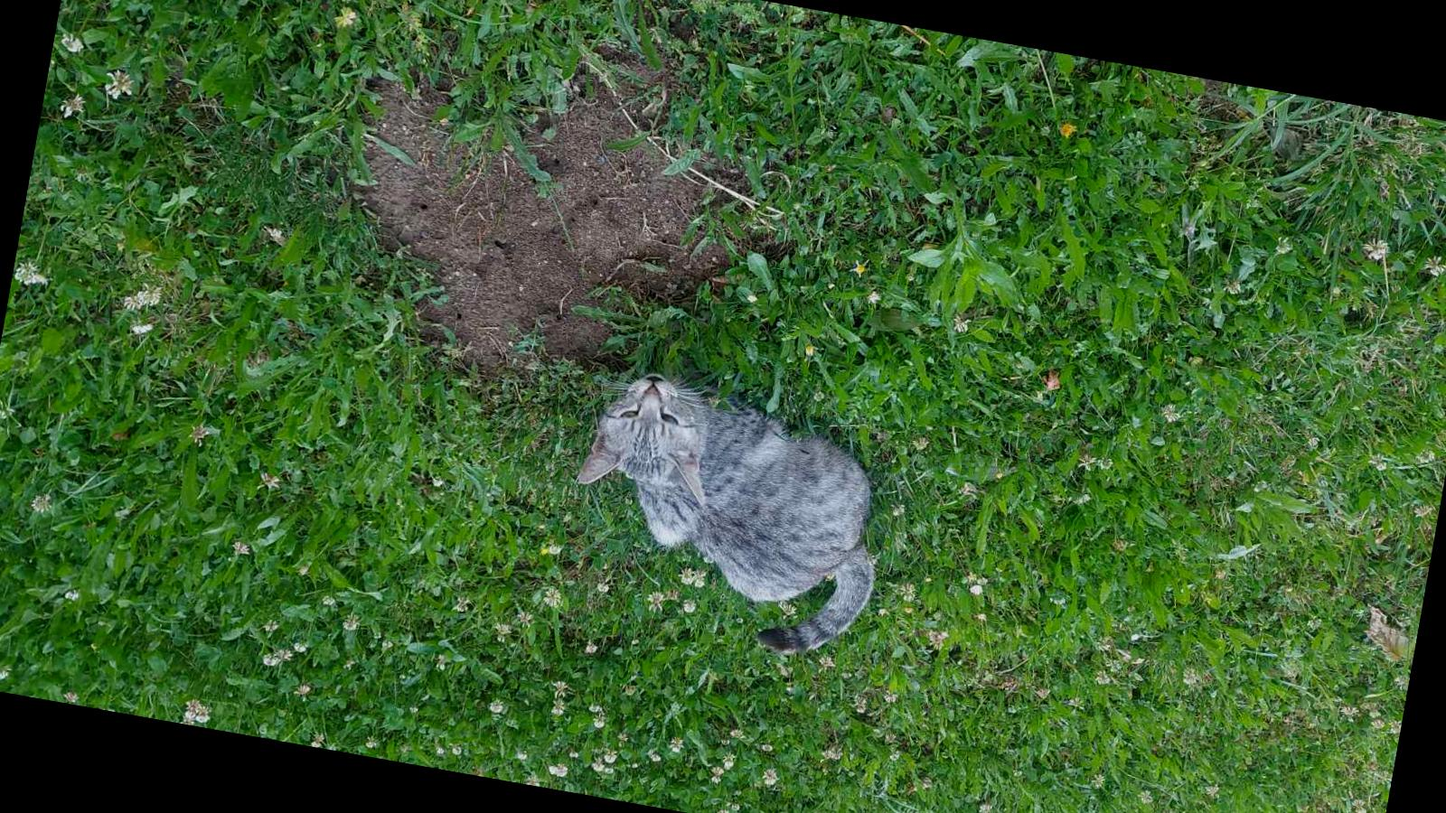macka: (551, 363, 903, 666)
